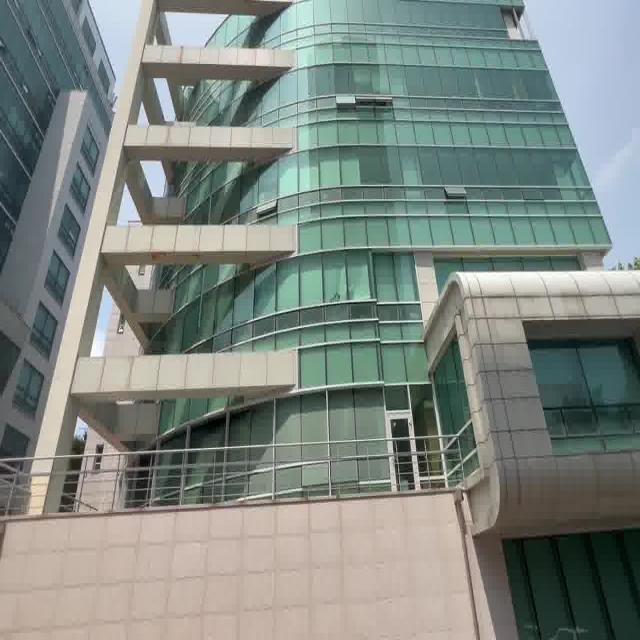building: (112, 7, 640, 584)
